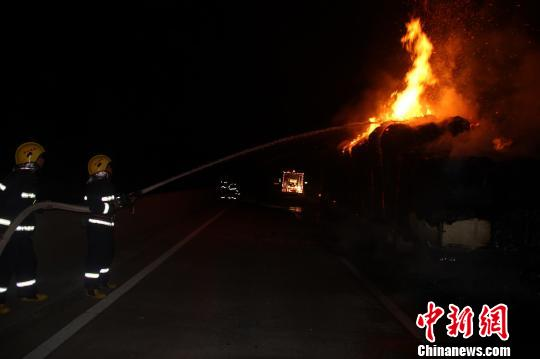fire: (352, 20, 486, 134)
